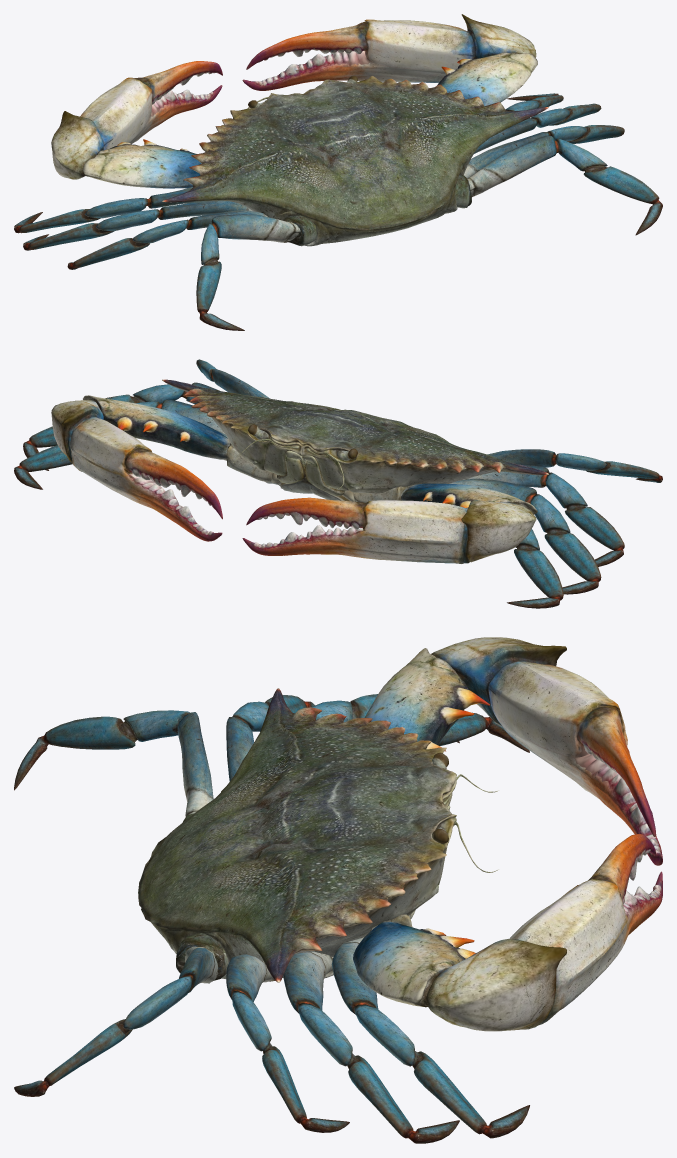
The model's file is blue_crab.fbx.
The picture shows the model from 3 angles, top to bottom: view 1: azimuth 30°, elevation 25°; view 2: azimuth 150°, elevation 25°; view 3: azimuth 270°, elevation 25°; orthographic projection. The views are drawn at different scales.
Visible parts, largest first — view 1: crabBody, carbAremL, CarbArmR, MidLegC_L1, legback:MidLegC_L, Base008:MidLegB_L, Base008:MidLegA_L, legbackB:MidLegC_L, MidLegC_L, Base008:MidLegB_R, Base008:MidLegA_R, Base008:BackLeg_L; view 2: crabBody, CarbArmR, carbAremL, Base008:MidLegB_L, legbackB:MidLegC_L, legback:MidLegC_L, Base008:MidLegA_L, Base008:MidLegB_R, Base008:MidLegA_R, MidLegC_L, MidLegC_L1; view 3: crabBody, carbAremL, CarbArmR, legback:MidLegC_L, Base008:MidLegB_R, Base008:MidLegA_R, MidLegC_L, MidLegC_L1, legbackB:MidLegC_L, Base008:MidLegA_L, BackLeg_L, Base008:MidLegB_L.
Part boxes in pixels (x1,y1,x2,y2): crabBody: [162, 75, 548, 246]; carbAremL: [242, 14, 537, 106]; CarbArmR: [51, 61, 222, 188]; MidLegC_L1: [467, 135, 662, 235]; legback:MidLegC_L: [196, 214, 300, 330]; Base008:MidLegB_L: [23, 200, 252, 250]; Base008:MidLegA_L: [14, 187, 195, 233]; legbackB:MidLegC_L: [67, 210, 267, 269]; MidLegC_L: [463, 125, 624, 178]; Base008:MidLegB_R: [473, 103, 601, 154]; Base008:MidLegA_R: [506, 93, 563, 111]; Base008:BackLeg_L: [283, 215, 316, 246]; crabBody: [162, 379, 548, 501]; CarbArmR: [242, 483, 537, 563]; carbAremL: [51, 395, 283, 541]; Base008:MidLegB_L: [449, 478, 601, 594]; legbackB:MidLegC_L: [463, 464, 624, 566]; legback:MidLegC_L: [487, 449, 662, 482]; Base008:MidLegA_L: [507, 529, 563, 608]; Base008:MidLegB_R: [23, 399, 225, 470]; Base008:MidLegA_R: [14, 430, 227, 489]; MidLegC_L: [106, 382, 219, 404]; MidLegC_L1: [196, 359, 269, 398]; crabBody: [138, 688, 498, 982]; carbAremL: [353, 834, 662, 1031]; CarbArmR: [364, 637, 662, 865]; legback:MidLegC_L: [14, 710, 213, 816]; Base008:MidLegB_R: [283, 951, 459, 1143]; Base008:MidLegA_R: [331, 937, 529, 1138]; MidLegC_L: [226, 954, 349, 1132]; MidLegC_L1: [14, 946, 218, 1096]; legbackB:MidLegC_L: [226, 695, 314, 781]; Base008:MidLegA_L: [438, 712, 529, 752]; BackLeg_L: [176, 933, 228, 980]; Base008:MidLegB_L: [311, 694, 459, 743].
Size of the model in its own units: 2.34 by 0.3687 by 1.47.
Materials: 2 (2 with a texture image).
